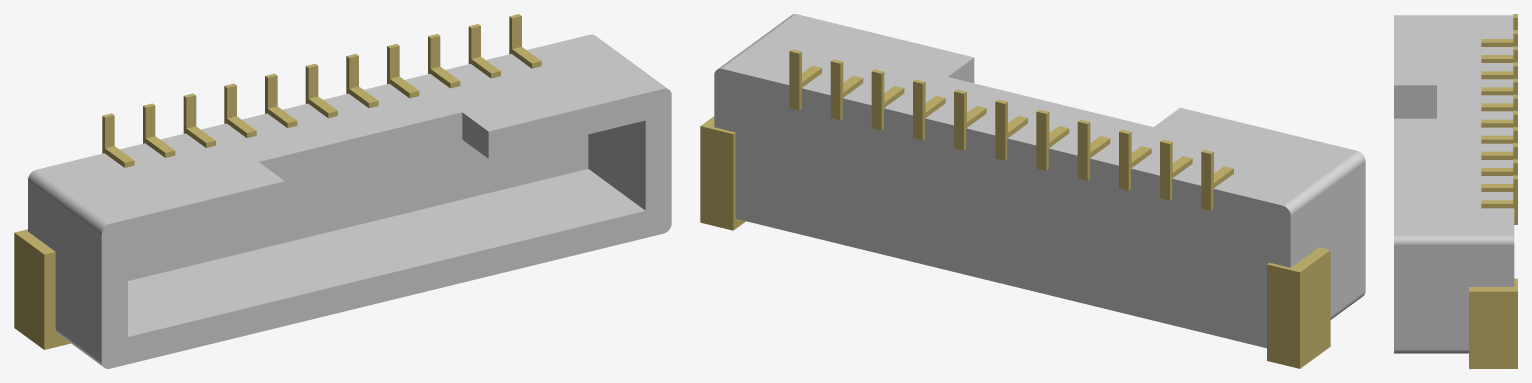
File: jst_gh_11pin.glb
3 views of the same model, side by side, from view 1: azimuth 30°, elevation 25°; view 2: azimuth 150°, elevation 25°; view 3: azimuth 270°, elevation 25° (orthographic). The views are drawn at different scales.
Parts seen in each view (by area): view 1: world; view 2: world; view 3: world.
Boxes of the visible parts, <box> form: world: <box>14,14,671,368</box>; world: <box>700,14,1365,368</box>; world: <box>1394,14,1517,368</box>.
Bounding box in the file's own units: 18.2 × 5.6 × 4.05.
